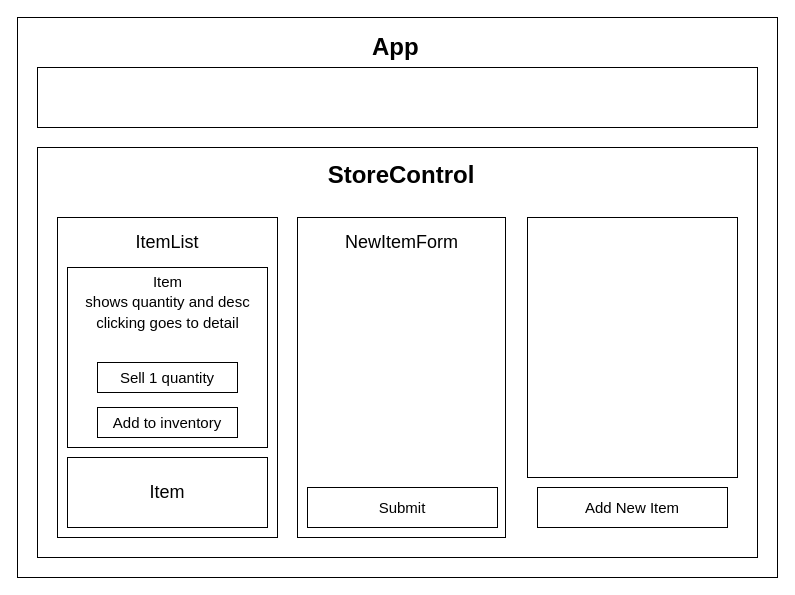
Image size: 795x595. Some labels were removed from this diagram. The box of each missing label's shape, as (x1, y1, x2, y2) in pixels:
Header: (36, 66, 758, 128)
ItemDetail: (526, 216, 738, 478)
